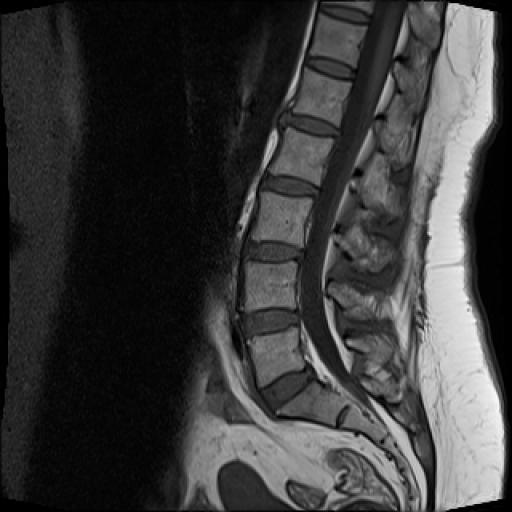L1: (293, 66, 351, 126)
L2: (269, 127, 334, 184)
L3: (250, 191, 313, 248)
L4: (245, 262, 296, 310)
L5: (249, 327, 304, 388)
S1: (276, 380, 349, 426)
